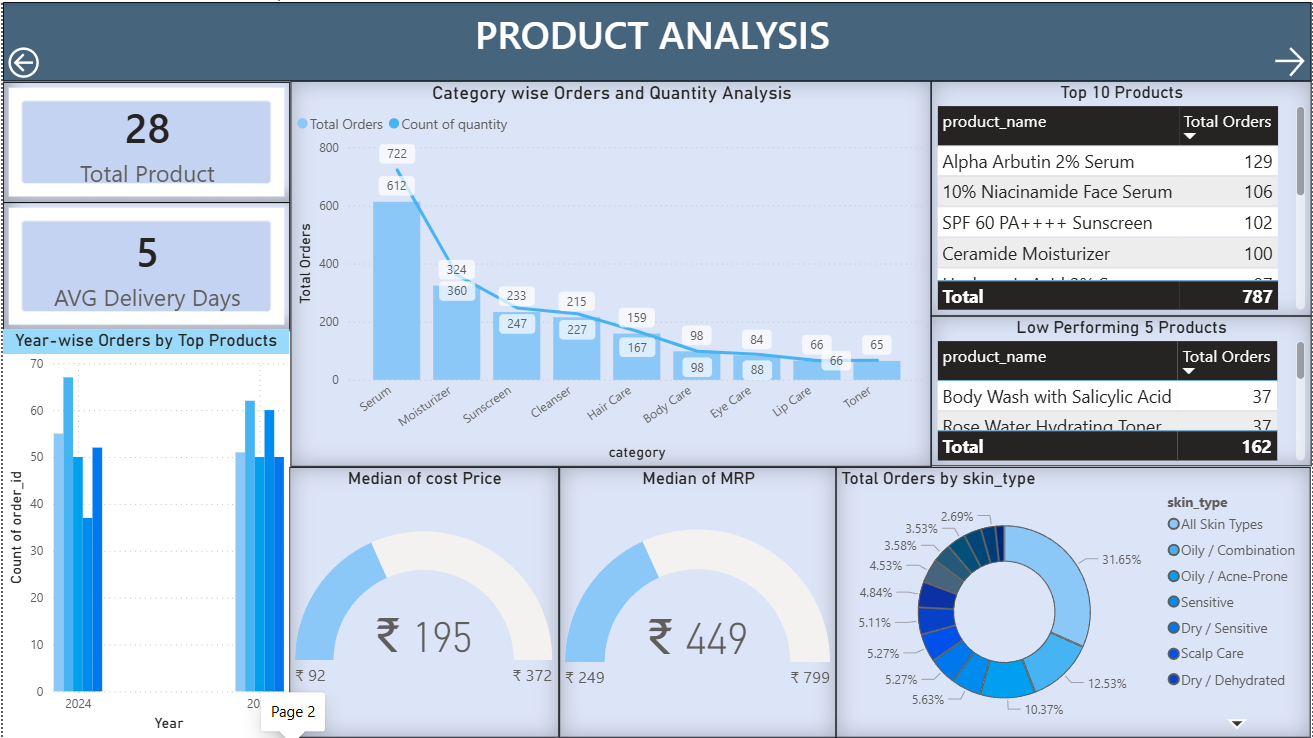

This screenshot's page, from the dashboard's own definition file:
{"tool":"powerbi","page":{"name":"Page 2","canvas":[1280,720],"ordinal":1},"visuals":[{"type":"tableEx","title":"Top 10 Products ","fields":{"Values":["Products.product_name","Order_Items.Total Orders"]},"box":[907.5,77.5,372.5,230],"z":0},{"type":"tableEx","title":"Low Performing 5 Products ","fields":{"Values":["Products.product_name","Order_Items.Total Orders"]},"box":[907.5,307.5,372.5,147.5],"z":1000},{"type":"lineStackedColumnComboChart","title":"Category wise  Orders and Quantity Analysis ","fields":{"Category":["Products.category"],"Y":["Order_Items.Total Orders"],"Y2":["CountNonNull(Order_Items.quantity)"]},"box":[281.2,77.5,627.5,377.5],"z":2000},{"type":"gauge","title":"Median of cost Price ","fields":{"Y":["Median(Products.cost_price)"],"MinValue":["Min(Products.cost_price)"],"MaxValue":["Max(Products.cost_price)1"],"TargetValue":["Sum(Orders.New Final Amount )"]},"box":[280,455,263.8,265],"z":3000},{"type":"cardVisual","fields":{"Data":["Count(Products.product_id)"]},"box":[0,78,281,118],"z":4000},{"type":"donutChart","fields":{"Category":["Products.skin_type"],"Y":["Order_Items.Total Orders"]},"box":[815,455,465,265],"z":5000},{"type":"gauge","title":"Median of MRP ","fields":{"Y":["Median(Products.mrp)"],"MinValue":["Min(Products.mrp)1"],"MaxValue":["Max(Products.mrp)2"]},"box":[543.8,455,271.2,265],"z":6000},{"type":"cardVisual","fields":{"Data":["Median(Orders.Delivery Days)"]},"box":[0,196,281,126],"z":7000},{"type":"textbox","box":[0,0,1280,77.5],"z":8000},{"type":"lineClusteredColumnComboChart","title":"Year-wise Orders by Top Products","fields":{"Category":["Orders.order_date.Variation.Date Hierarchy.Year"],"Y":["Count(Order_Items.order_id)"],"Series":["Products.product_name"]},"box":[0,320,280,398],"z":9000},{"type":"actionButton","box":[0,39.1,100.3,40.4],"z":10000},{"type":"actionButton","box":[1239.3,39,40.4,39],"z":10001}]}

Visuals, with their boxes in screenshot pixels (x1, y1, x2, y2), scaled from the page's 1280x720 canvas onto the 1313x738 screenshot:
"Top 10 Products " tableEx: x1=931, y1=79, x2=1312, y2=315
"Low Performing 5 Products " tableEx: x1=931, y1=315, x2=1312, y2=466
"Category wise  Orders and Quantity Analysis " lineStackedColumnComboChart: x1=288, y1=79, x2=932, y2=466
"Median of cost Price " gauge: x1=287, y1=466, x2=558, y2=737
cardVisual - Count(Products.product_id): x1=0, y1=80, x2=288, y2=201
donutChart - Products.skin_type x Order_Items.Total Orders: x1=836, y1=466, x2=1312, y2=737
"Median of MRP " gauge: x1=558, y1=466, x2=836, y2=737
cardVisual - Median(Orders.Delivery Days): x1=0, y1=201, x2=288, y2=330
textbox: x1=0, y1=0, x2=1312, y2=79
"Year-wise Orders by Top Products" lineClusteredColumnComboChart: x1=0, y1=328, x2=287, y2=736
actionButton: x1=0, y1=40, x2=103, y2=81
actionButton: x1=1271, y1=40, x2=1312, y2=80
